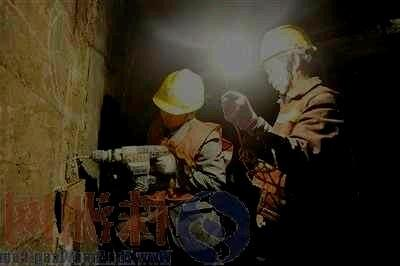helmet: (257, 23, 318, 95), (152, 67, 205, 129)
